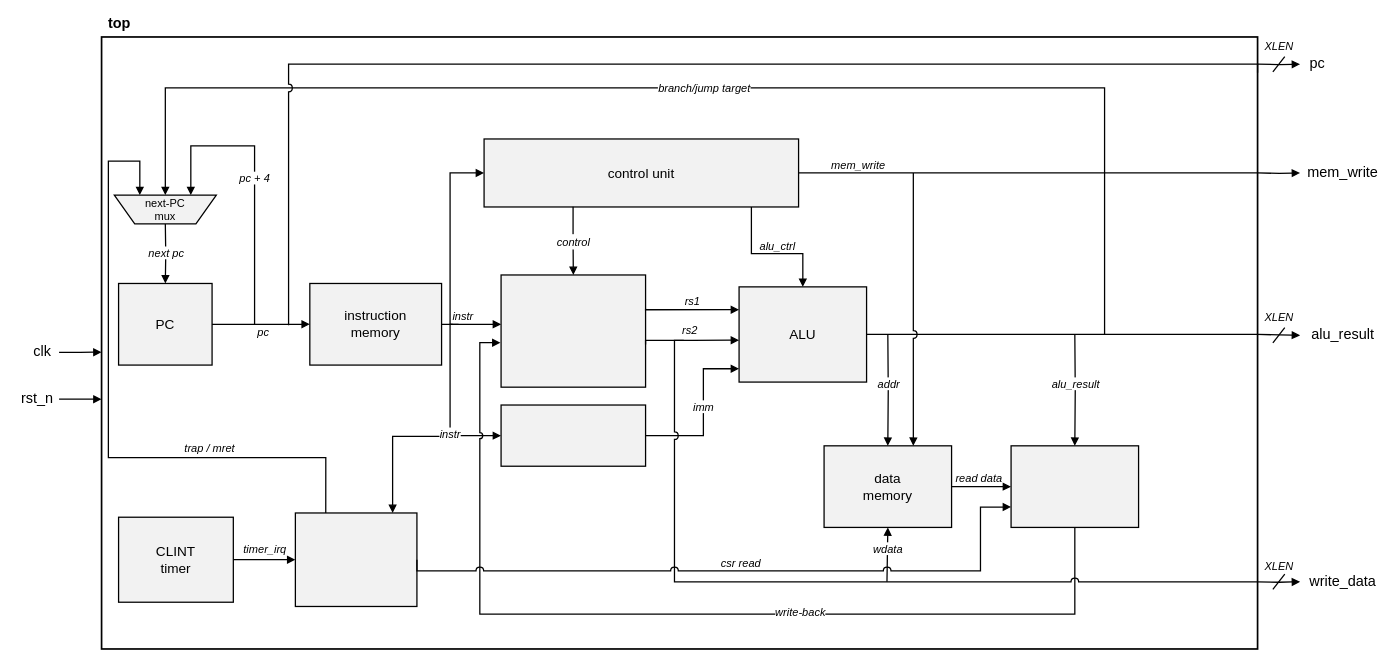
Image size: 1399x664. Some labels were removed from this diagram. The centre of each missing label's shape, as x and y in pixels:
"CSR / trap unit" belongs at point 355,559.
"immediate extend" belongs at point 573,435.
"register file" belongs at point 573,330.
"result mux" belongs at point 1074,486.
